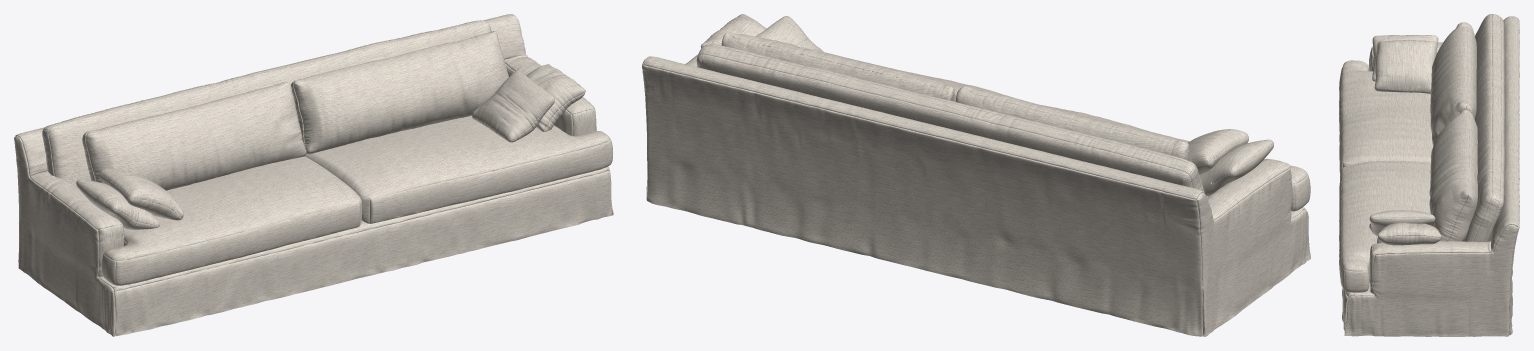
File: white.glb
3 renders of one model, left to right at view 1: azimuth 30°, elevation 25°; view 2: azimuth 150°, elevation 25°; view 3: azimuth 270°, elevation 25°, orthographic. The views are drawn at different scales.
Visible parts, largest first — view 1: Object_4; view 2: Object_4; view 3: Object_4.
Boxes of the visible parts, x1,y1,x2,y2 form: Object_4: (14,14,613,336); Object_4: (642,14,1310,336); Object_4: (1339,14,1519,336).
Bounding box in the file's own units: 3.23 × 0.9163 × 1.17.
2 materials, 1 textured.
